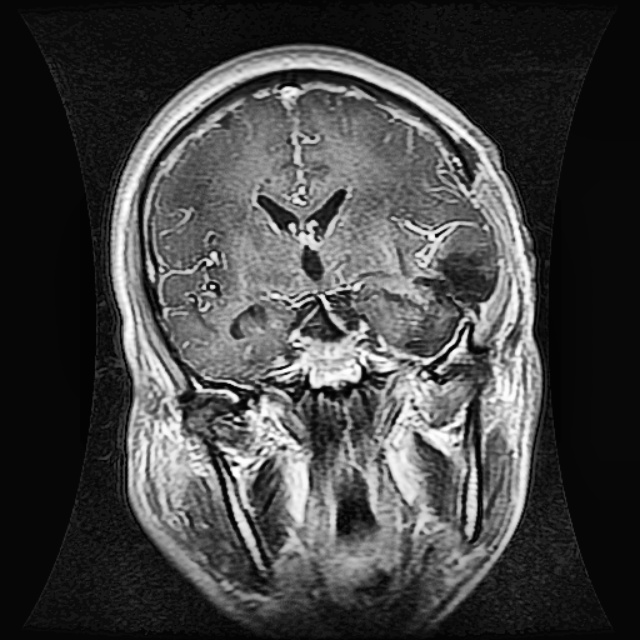Glioma: (379, 243, 497, 354)
